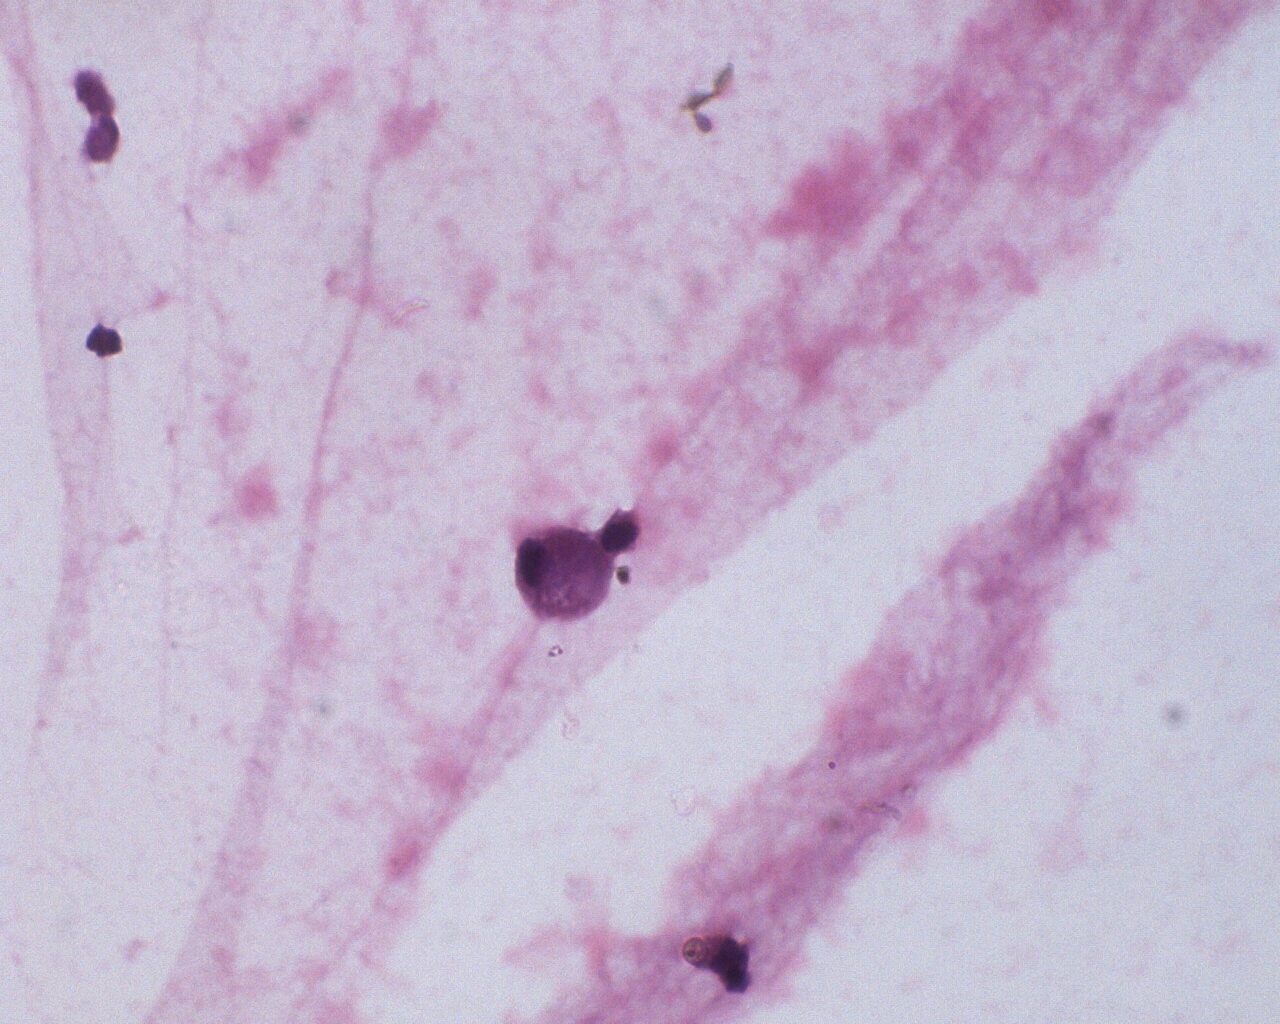histo: (508, 523, 614, 624)
